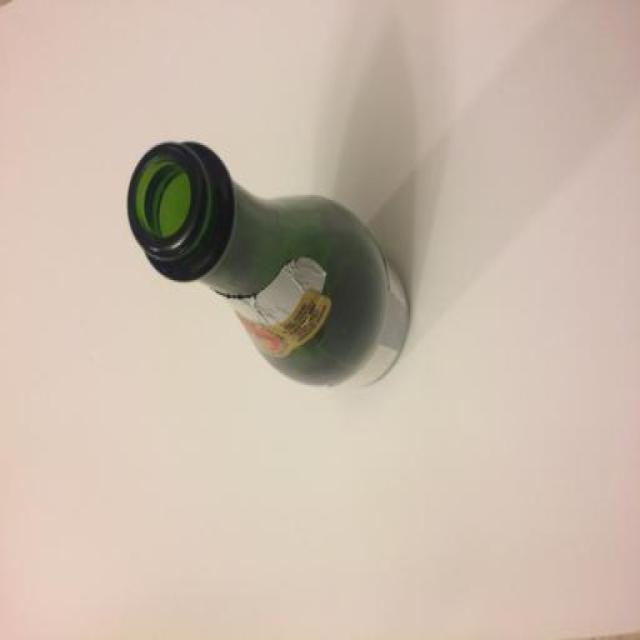glass: (126, 138, 411, 387)
